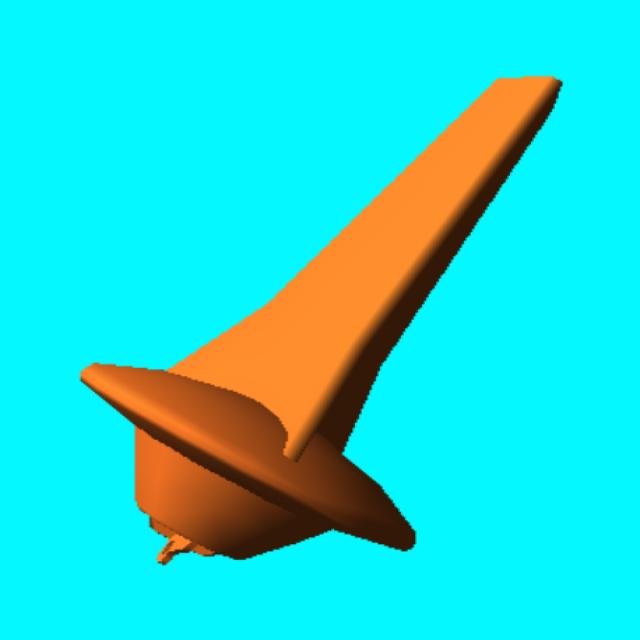OrangeBuoy: (81, 78, 561, 562)
